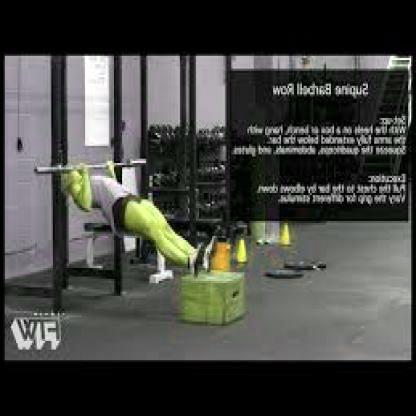Barbell: (29, 161, 40, 179)
